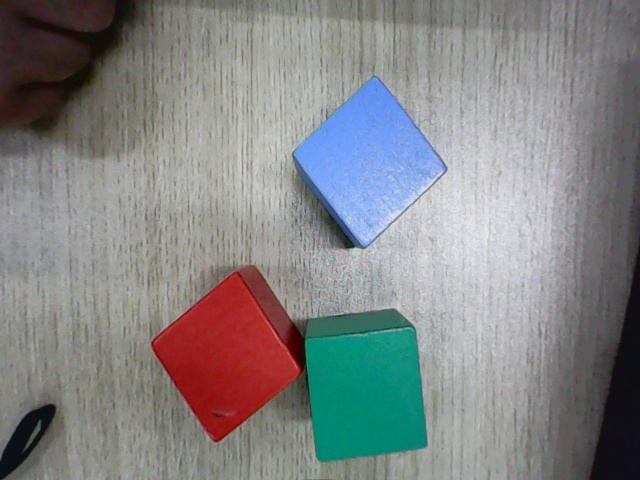upside of big cube: (292, 76, 448, 250), (150, 272, 302, 445), (304, 326, 430, 461)
